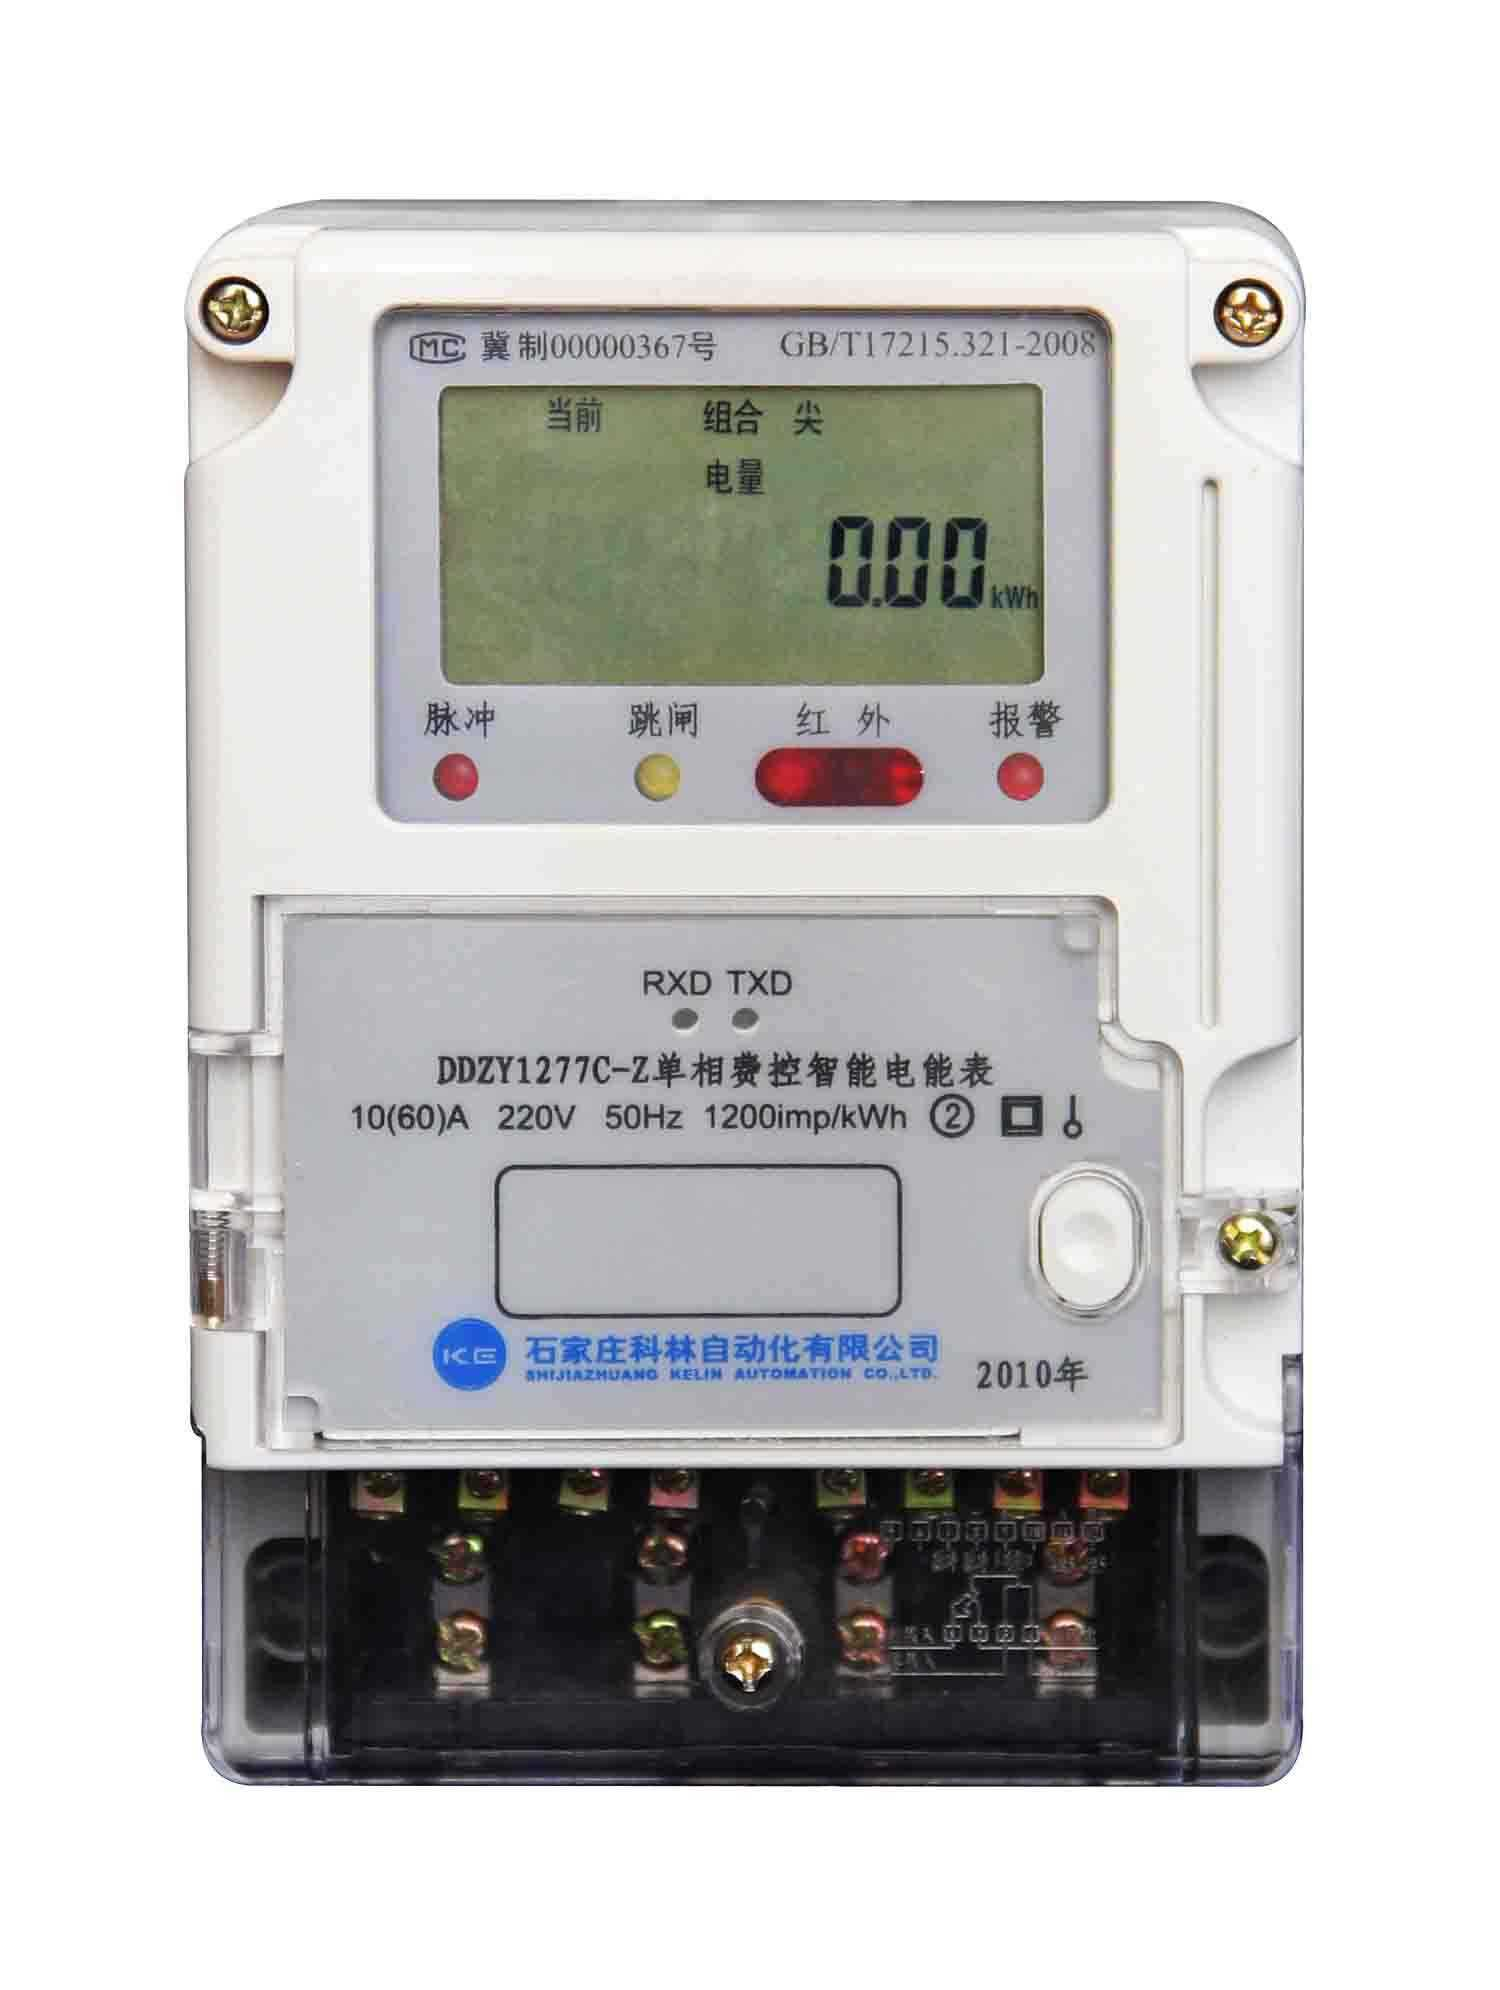digital: (189, 227, 1303, 1454)
